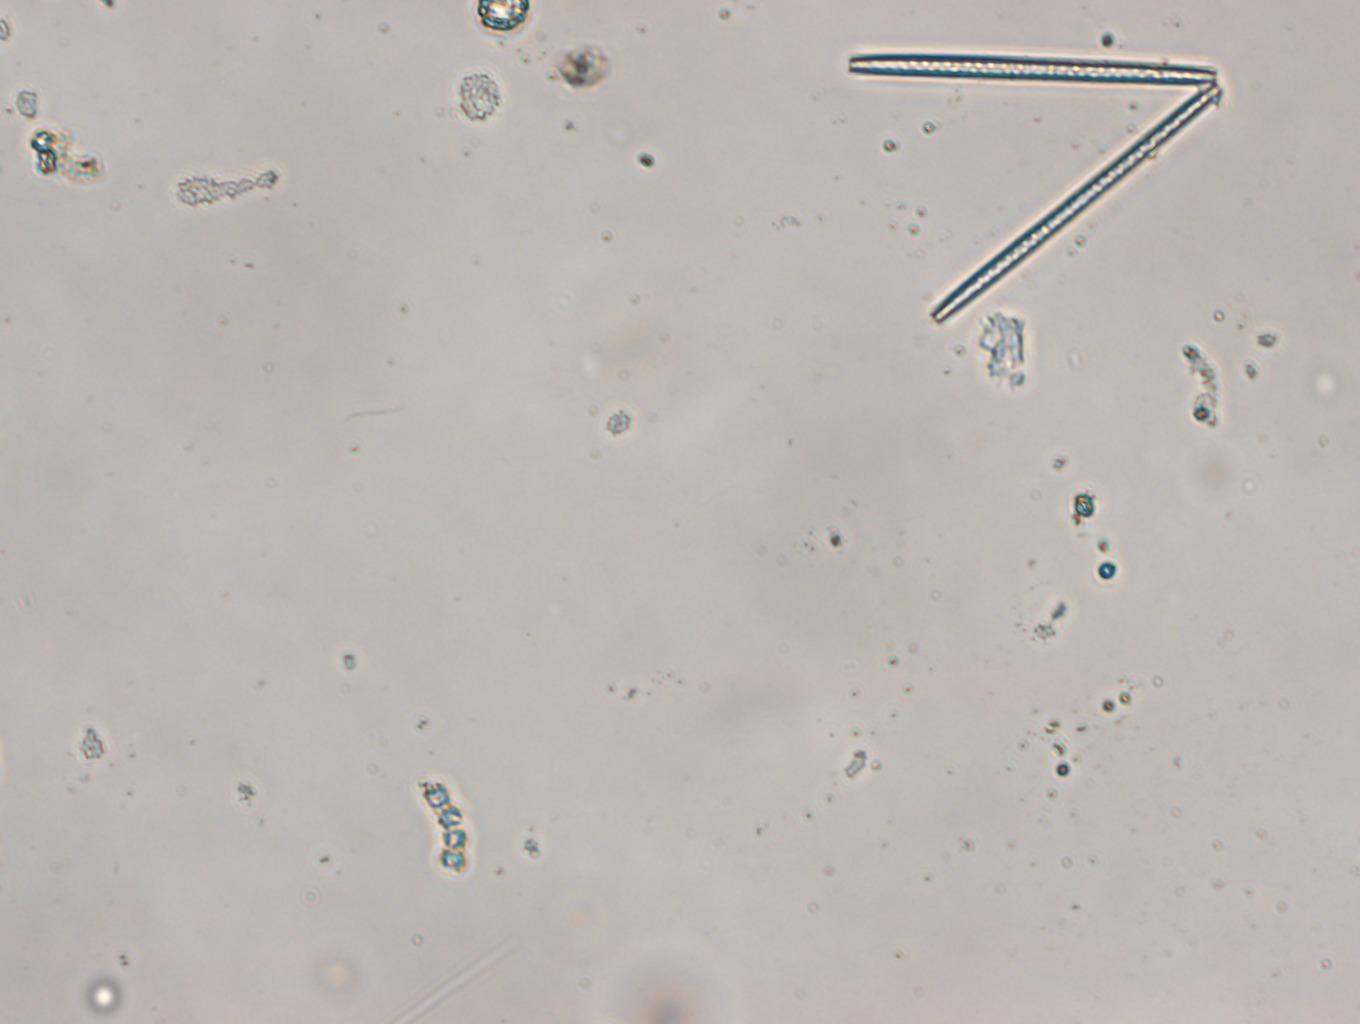thalassionema frauenfeldii: (844, 56, 1225, 323)
